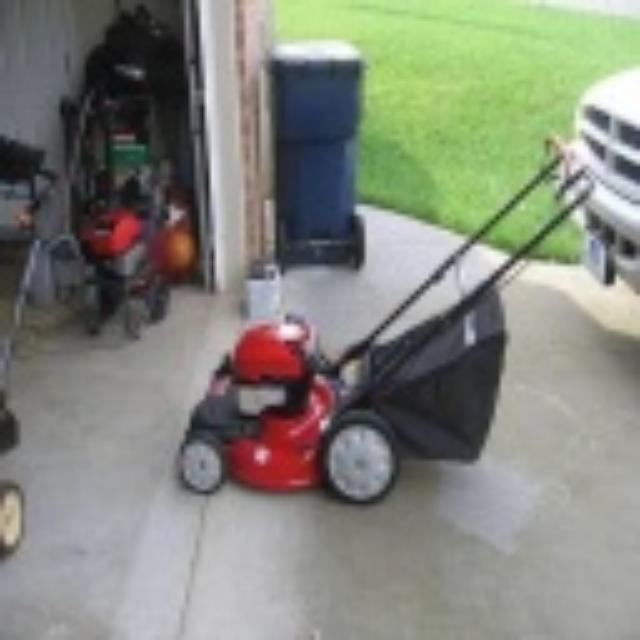Rotary-Mower: (170, 130, 594, 506)
